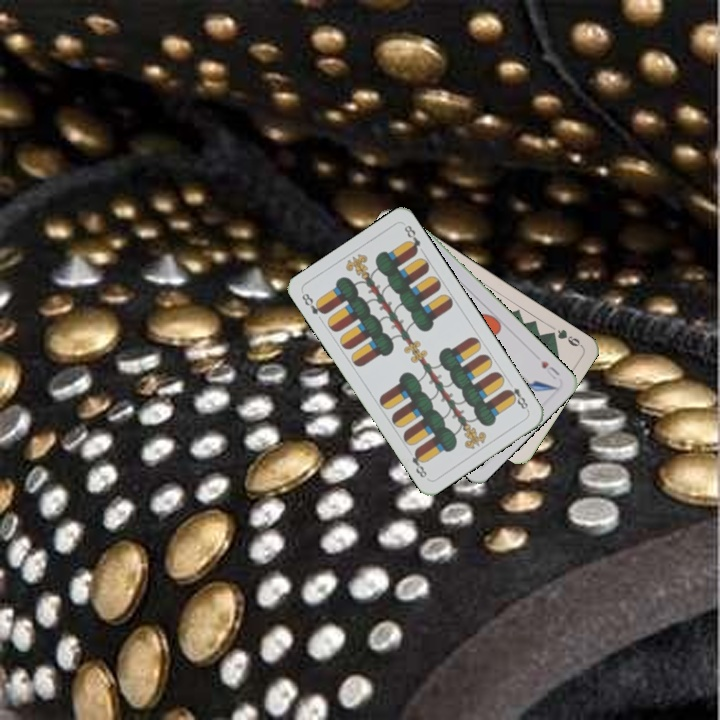E8: (502, 383, 531, 414), (298, 289, 329, 317)
G9: (545, 325, 585, 349)
HU: (537, 356, 562, 382)
